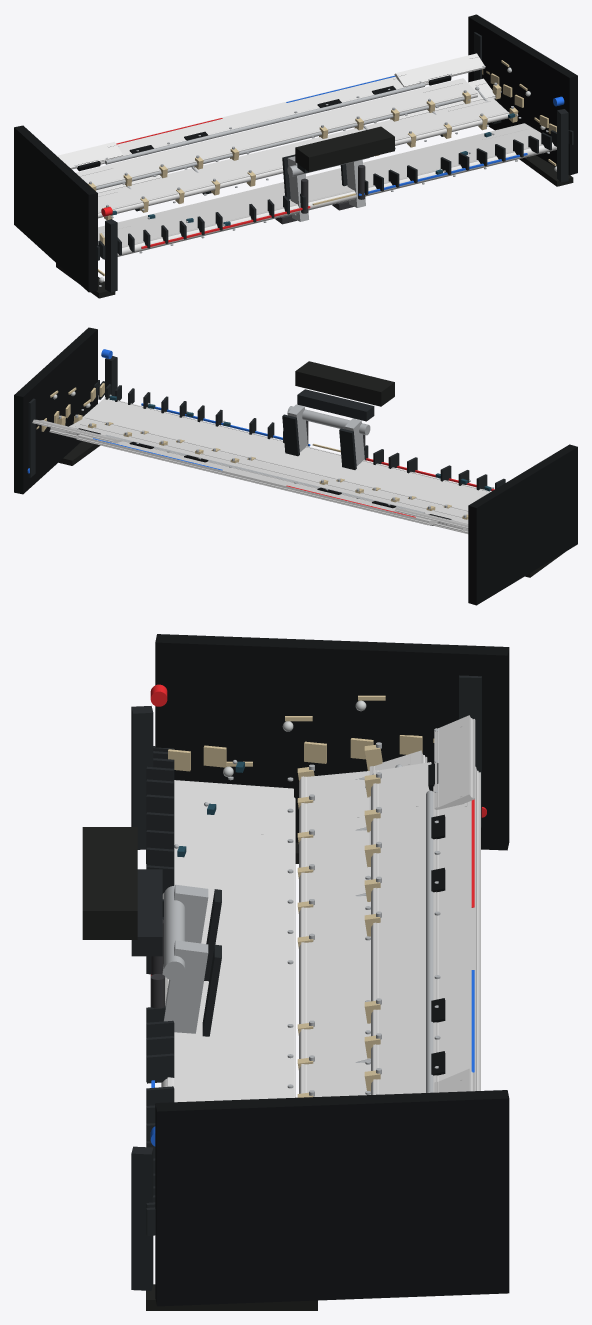
File: f1_front_wing_aero_concept_assembly.glb
The picture shows the model from 3 angles, top to bottom: view 1: azimuth 30°, elevation 25°; view 2: azimuth 150°, elevation 25°; view 3: azimuth 270°, elevation 25°; orthographic projection. The views are drawn at different scales.
Visible parts, largest first — view 1: =>[0:1:1:126], =>[0:1:1:6], =>[0:1:1:163], =>[0:1:1:36], =>[0:1:1:21], =>[0:1:1:51], =>[0:1:1:200], =>[0:1:1:8], =>[0:1:1:23], =>[0:1:1:227], =>[0:1:1:225], =>[0:1:1:111] (+13 smaller); view 2: =>[0:1:1:126], =>[0:1:1:6], =>[0:1:1:163], =>[0:1:1:200], =>[0:1:1:21], =>[0:1:1:51], =>[0:1:1:36], =>[0:1:1:202], =>[0:1:1:55], =>[0:1:1:204], =>[0:1:1:227], =>[0:1:1:208] (+13 smaller); view 3: =>[0:1:1:163], =>[0:1:1:126], =>[0:1:1:6], =>[0:1:1:21], =>[0:1:1:36], =>[0:1:1:51], =>[0:1:1:200], =>[0:1:1:167], =>[0:1:1:81], =>[0:1:1:214], =>[0:1:1:130], =>[0:1:1:202] (+10 smaller).
Part boxes in pixels (box(x1,y1,x2,y2)): =>[0:1:1:126]: box(14, 125, 97, 292); =>[0:1:1:6]: box(98, 123, 541, 257); =>[0:1:1:163]: box(468, 14, 577, 175); =>[0:1:1:36]: box(75, 78, 475, 184); =>[0:1:1:21]: box(98, 97, 507, 211); =>[0:1:1:51]: box(116, 75, 402, 154); =>[0:1:1:200]: box(295, 126, 394, 171); =>[0:1:1:8]: box(104, 143, 556, 259); =>[0:1:1:23]: box(98, 111, 509, 218); =>[0:1:1:227]: box(105, 83, 425, 164); =>[0:1:1:225]: box(96, 97, 464, 189); =>[0:1:1:111]: box(395, 53, 483, 84); =>[0:1:1:126]: box(468, 444, 577, 605); =>[0:1:1:6]: box(82, 399, 488, 510); =>[0:1:1:163]: box(14, 327, 97, 494); =>[0:1:1:200]: box(295, 361, 394, 406); =>[0:1:1:21]: box(69, 418, 468, 516); =>[0:1:1:51]: box(77, 434, 438, 525); =>[0:1:1:36]: box(66, 425, 468, 531); =>[0:1:1:202]: box(297, 389, 374, 421); =>[0:1:1:55]: box(77, 437, 429, 524); =>[0:1:1:204]: box(287, 406, 370, 435); =>[0:1:1:227]: box(105, 434, 424, 513); =>[0:1:1:208]: box(339, 428, 356, 469); =>[0:1:1:163]: box(155, 1090, 509, 1306); =>[0:1:1:126]: box(155, 634, 509, 850); =>[0:1:1:6]: box(174, 780, 293, 1102); =>[0:1:1:21]: box(307, 771, 370, 1096); =>[0:1:1:36]: box(378, 762, 431, 1094); =>[0:1:1:51]: box(438, 766, 476, 1090); =>[0:1:1:200]: box(82, 827, 137, 939); =>[0:1:1:167]: box(131, 1146, 153, 1290); =>[0:1:1:81]: box(438, 715, 472, 809); =>[0:1:1:214]: box(164, 940, 208, 1033); =>[0:1:1:130]: box(131, 706, 153, 849); =>[0:1:1:202]: box(131, 869, 162, 956).
Bounding box in the file's own units: 1.89 × 0.389 × 0.7144.
